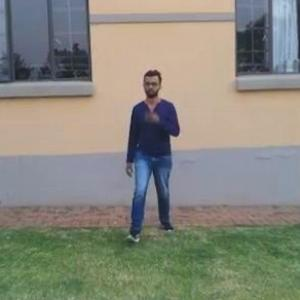follow: (126, 68, 178, 234)
